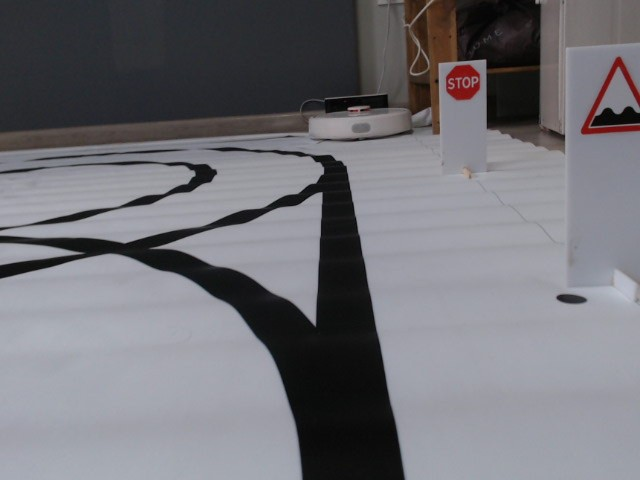Nerov: (580, 55, 640, 136)
